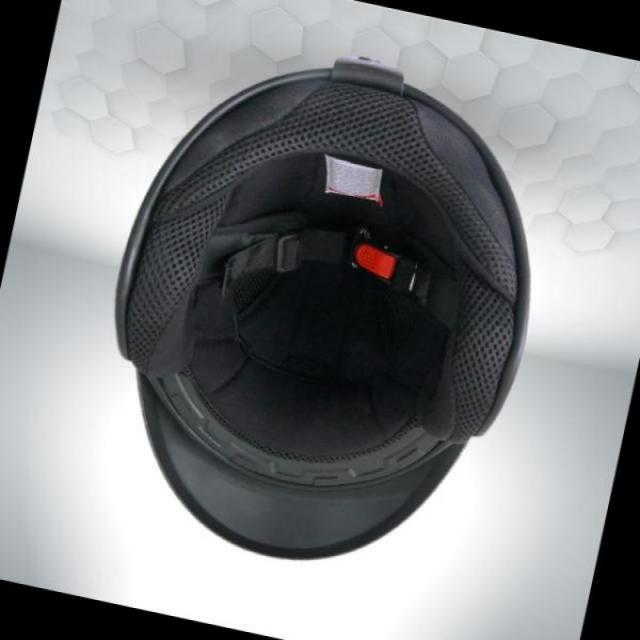Helmet: (107, 59, 517, 556)
